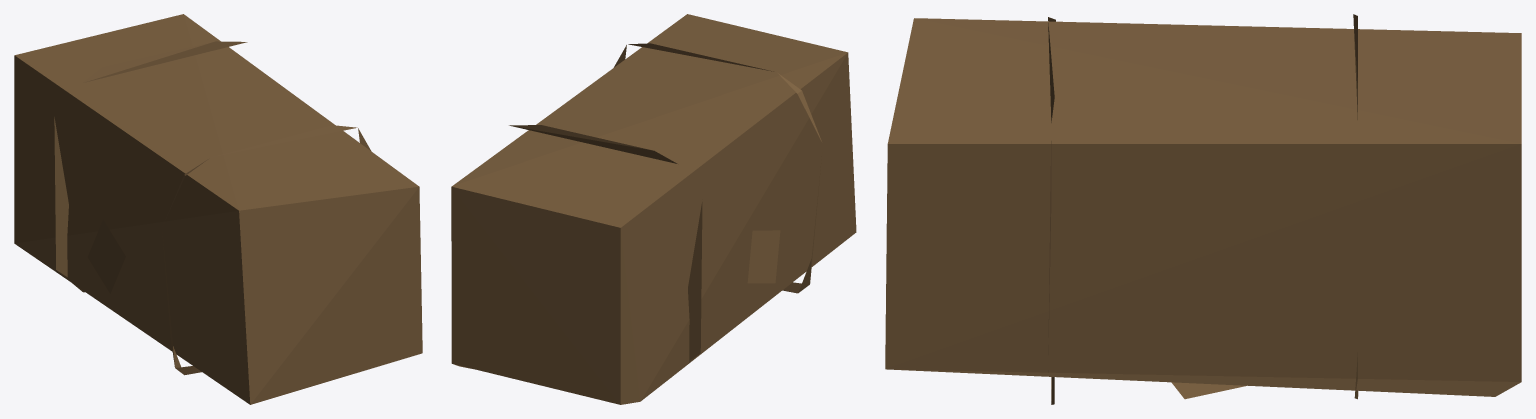
The model's file is hay-bale.lod2.glb.
3 renders of one model, left to right at view 1: azimuth 30°, elevation 25°; view 2: azimuth 150°, elevation 25°; view 3: azimuth 270°, elevation 25°, orthographic. The views are drawn at different scales.
Visible parts, largest first — view 1: Hay_bale_latest:Hay_Hay_bale_latest:Hay_bale1_0; view 2: Hay_bale_latest:Hay_Hay_bale_latest:Hay_bale1_0; view 3: Hay_bale_latest:Hay_Hay_bale_latest:Hay_bale1_0.
Part boxes in pixels (bbox=[...]): Hay_bale_latest:Hay_Hay_bale_latest:Hay_bale1_0: bbox=[14, 14, 422, 404]; Hay_bale_latest:Hay_Hay_bale_latest:Hay_bale1_0: bbox=[451, 14, 856, 404]; Hay_bale_latest:Hay_Hay_bale_latest:Hay_bale1_0: bbox=[885, 14, 1521, 404].
Bounding box in the file's own units: 0.8191 × 0.8069 × 1.49.
